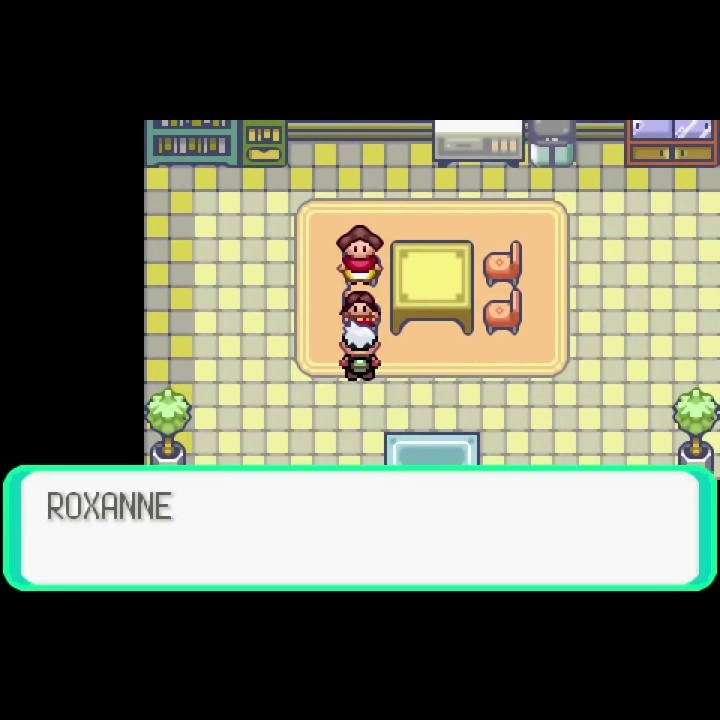exit: (382, 429, 482, 465)
npc: (335, 222, 386, 290), (339, 322, 382, 386), (339, 290, 379, 330)
